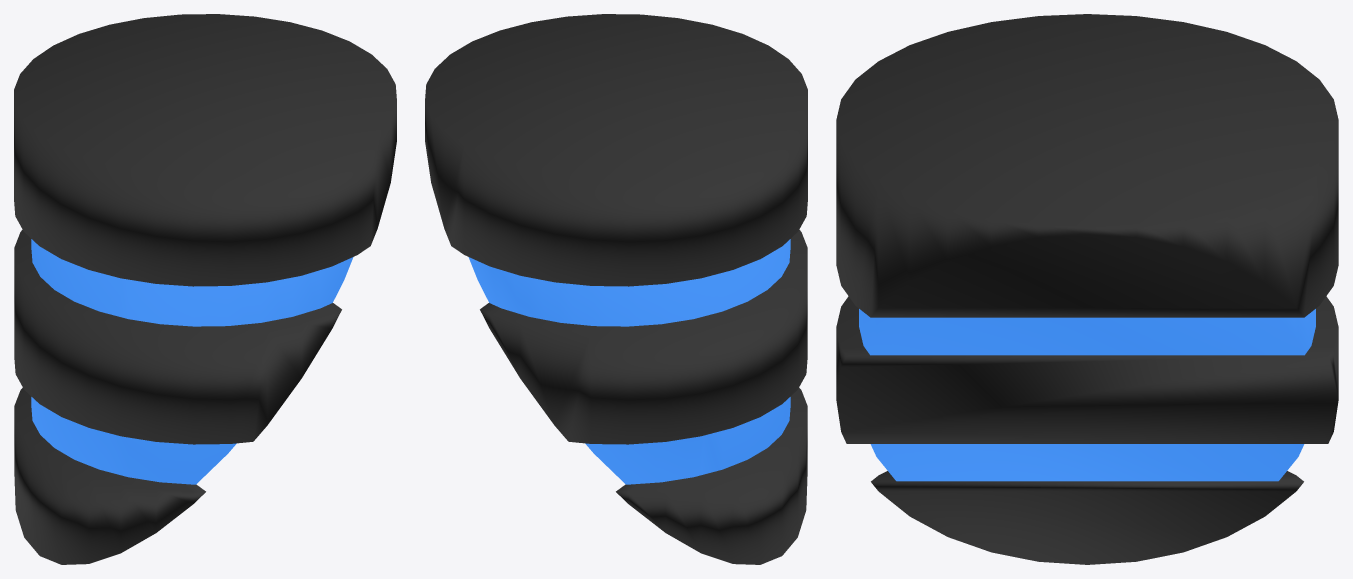
The model's file is DatabaseHaftUp.gltf.
3 renders of one model, left to right at view 1: azimuth 30°, elevation 25°; view 2: azimuth 150°, elevation 25°; view 3: azimuth 270°, elevation 25°, orthographic. The views are drawn at different scales.
Parts seen in each view (by area): view 1: Cylinder2Top, Cylinder1Top, GlowTop, Cylinder3Top; view 2: Cylinder2Top, Cylinder1Top, GlowTop, Cylinder3Top; view 3: Cylinder2Top, Cylinder1Top, GlowTop, Cylinder3Top.
Part boxes in pixels (x1,y1,x2,y2): Cylinder2Top: (14, 14, 396, 286); Cylinder1Top: (14, 230, 341, 444); GlowTop: (31, 239, 353, 484); Cylinder3Top: (14, 387, 205, 564); Cylinder2Top: (425, 14, 807, 286); Cylinder1Top: (480, 230, 807, 444); GlowTop: (468, 239, 790, 484); Cylinder3Top: (616, 387, 807, 564); Cylinder2Top: (836, 14, 1338, 317); Cylinder1Top: (836, 296, 1338, 443); GlowTop: (859, 309, 1315, 481); Cylinder3Top: (871, 471, 1303, 564).
Bounding box in the file's own units: 2.2 × 2.66 × 2.2.
